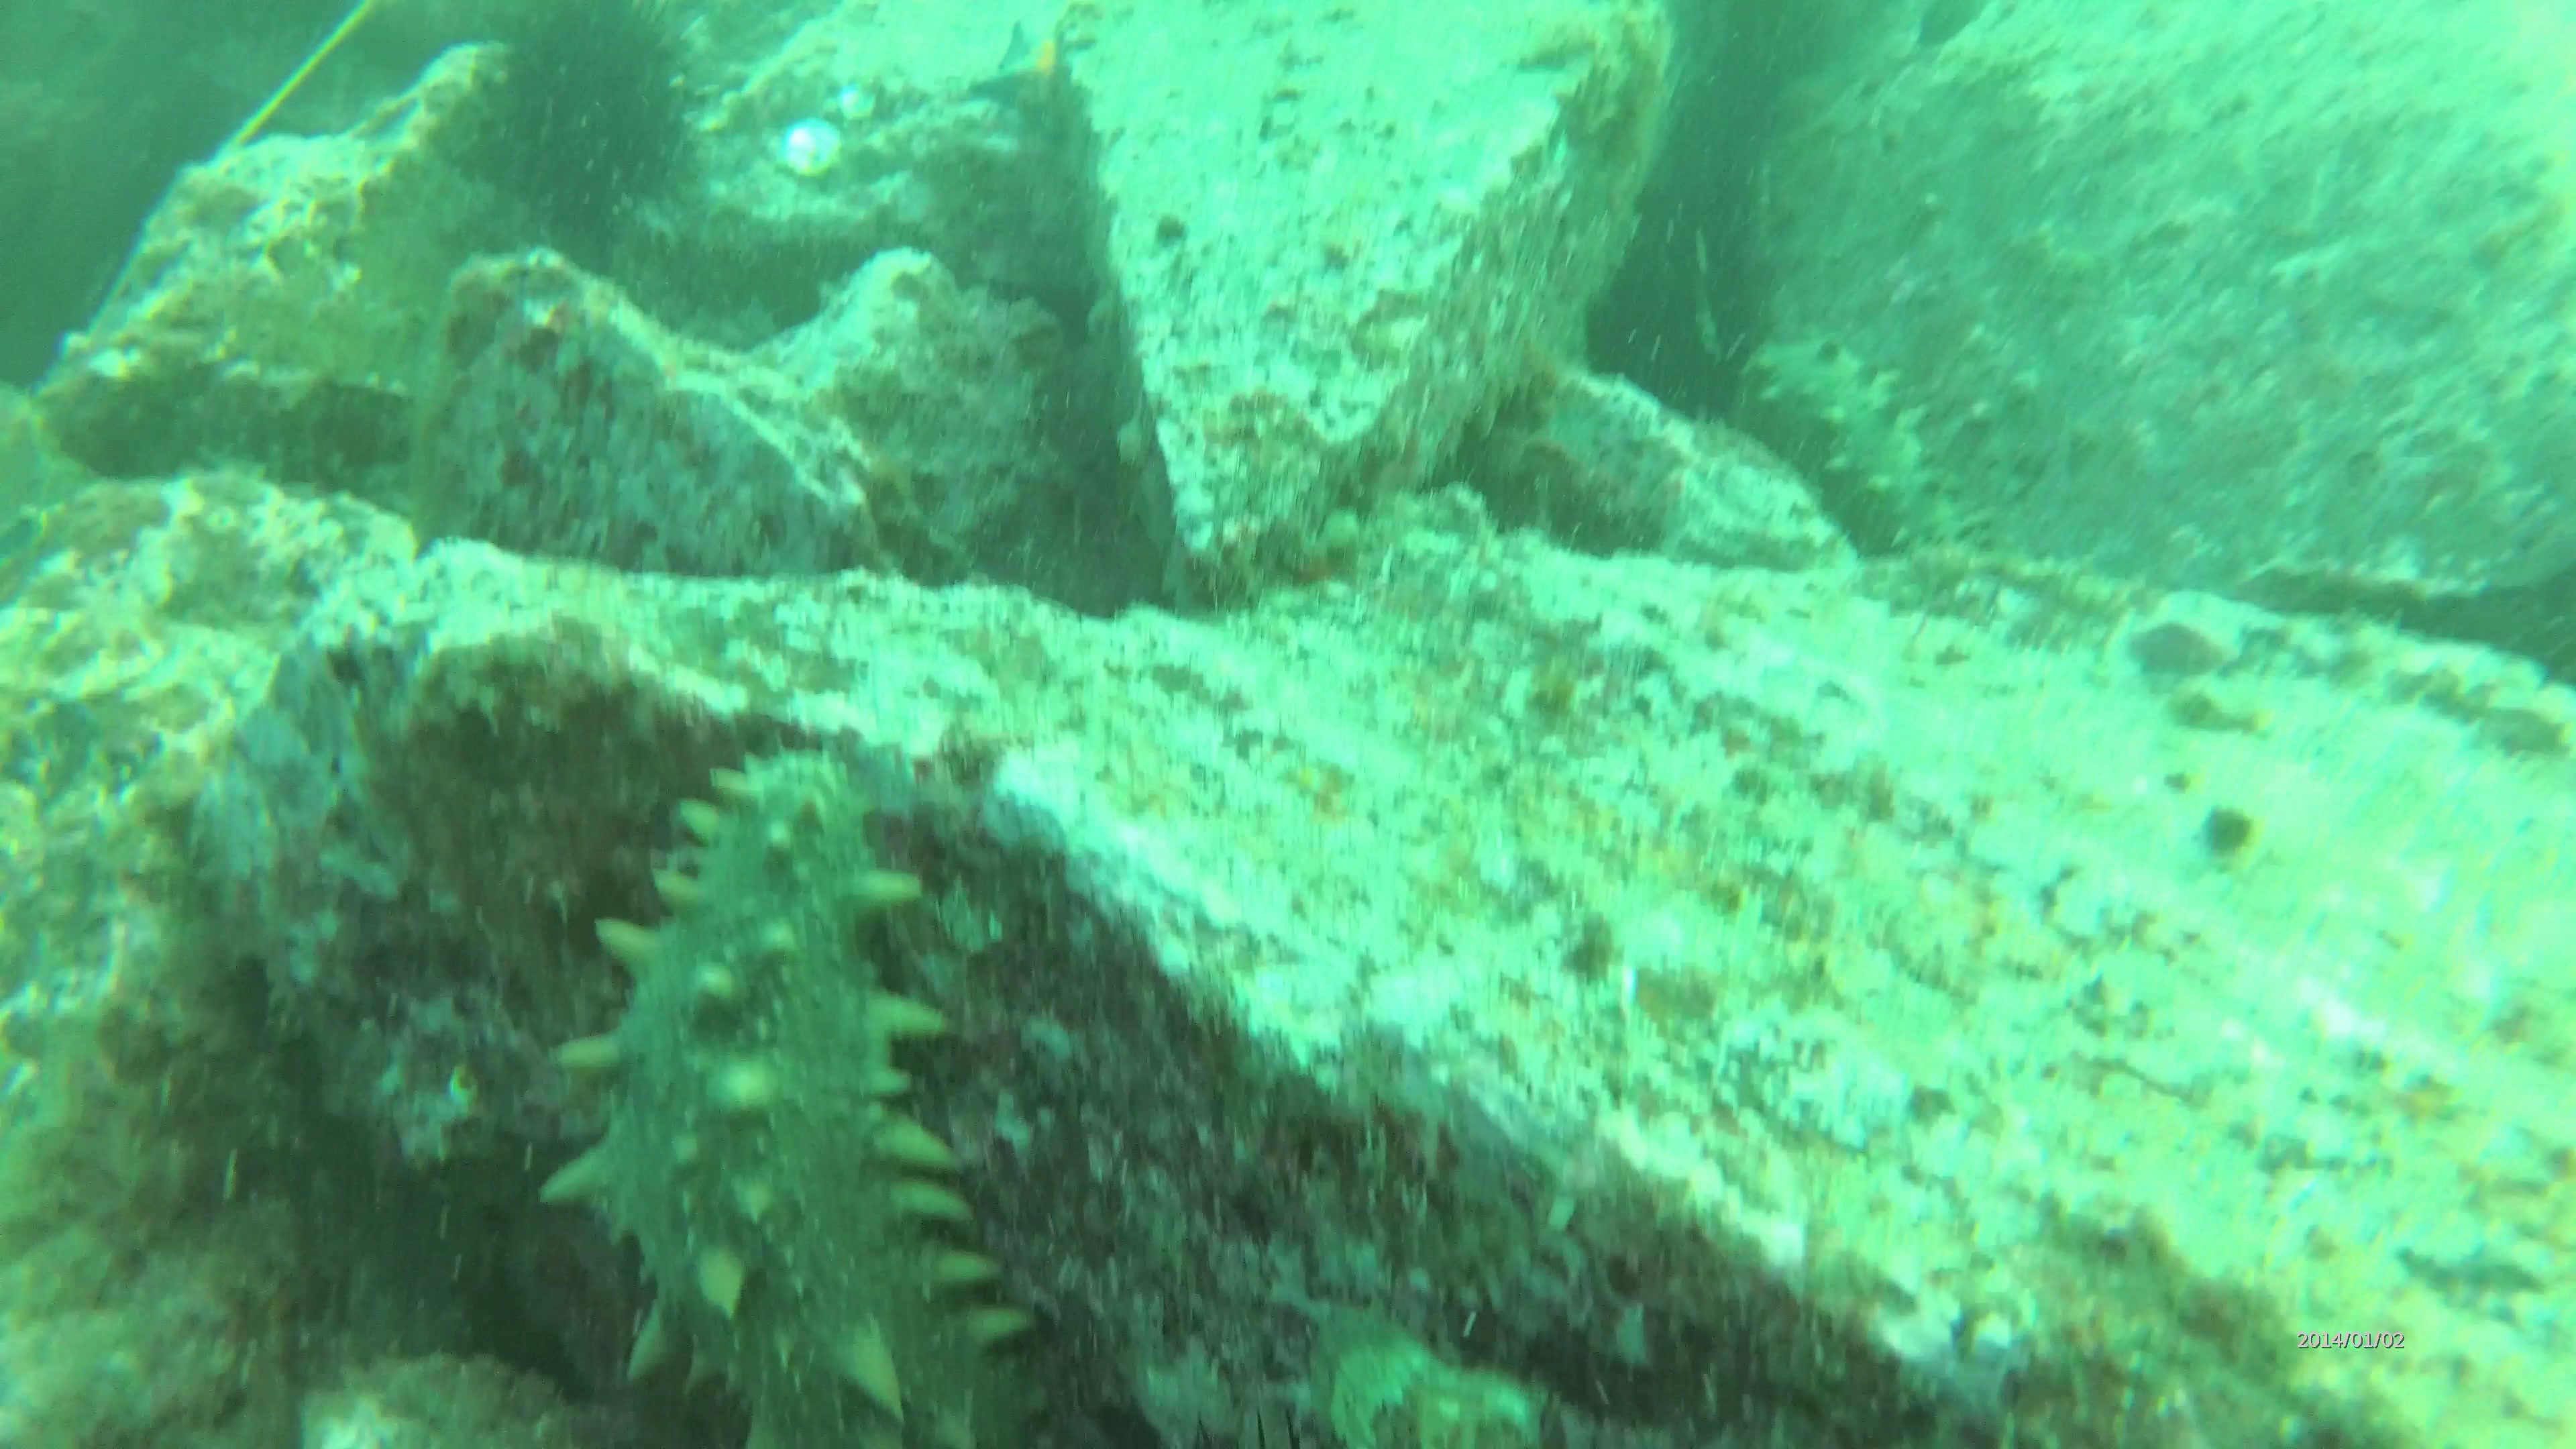echinus: (462, 0, 706, 251)
holothurian: (538, 748, 1056, 1449), (1748, 331, 1964, 556)
starfish: (962, 14, 1065, 124)
